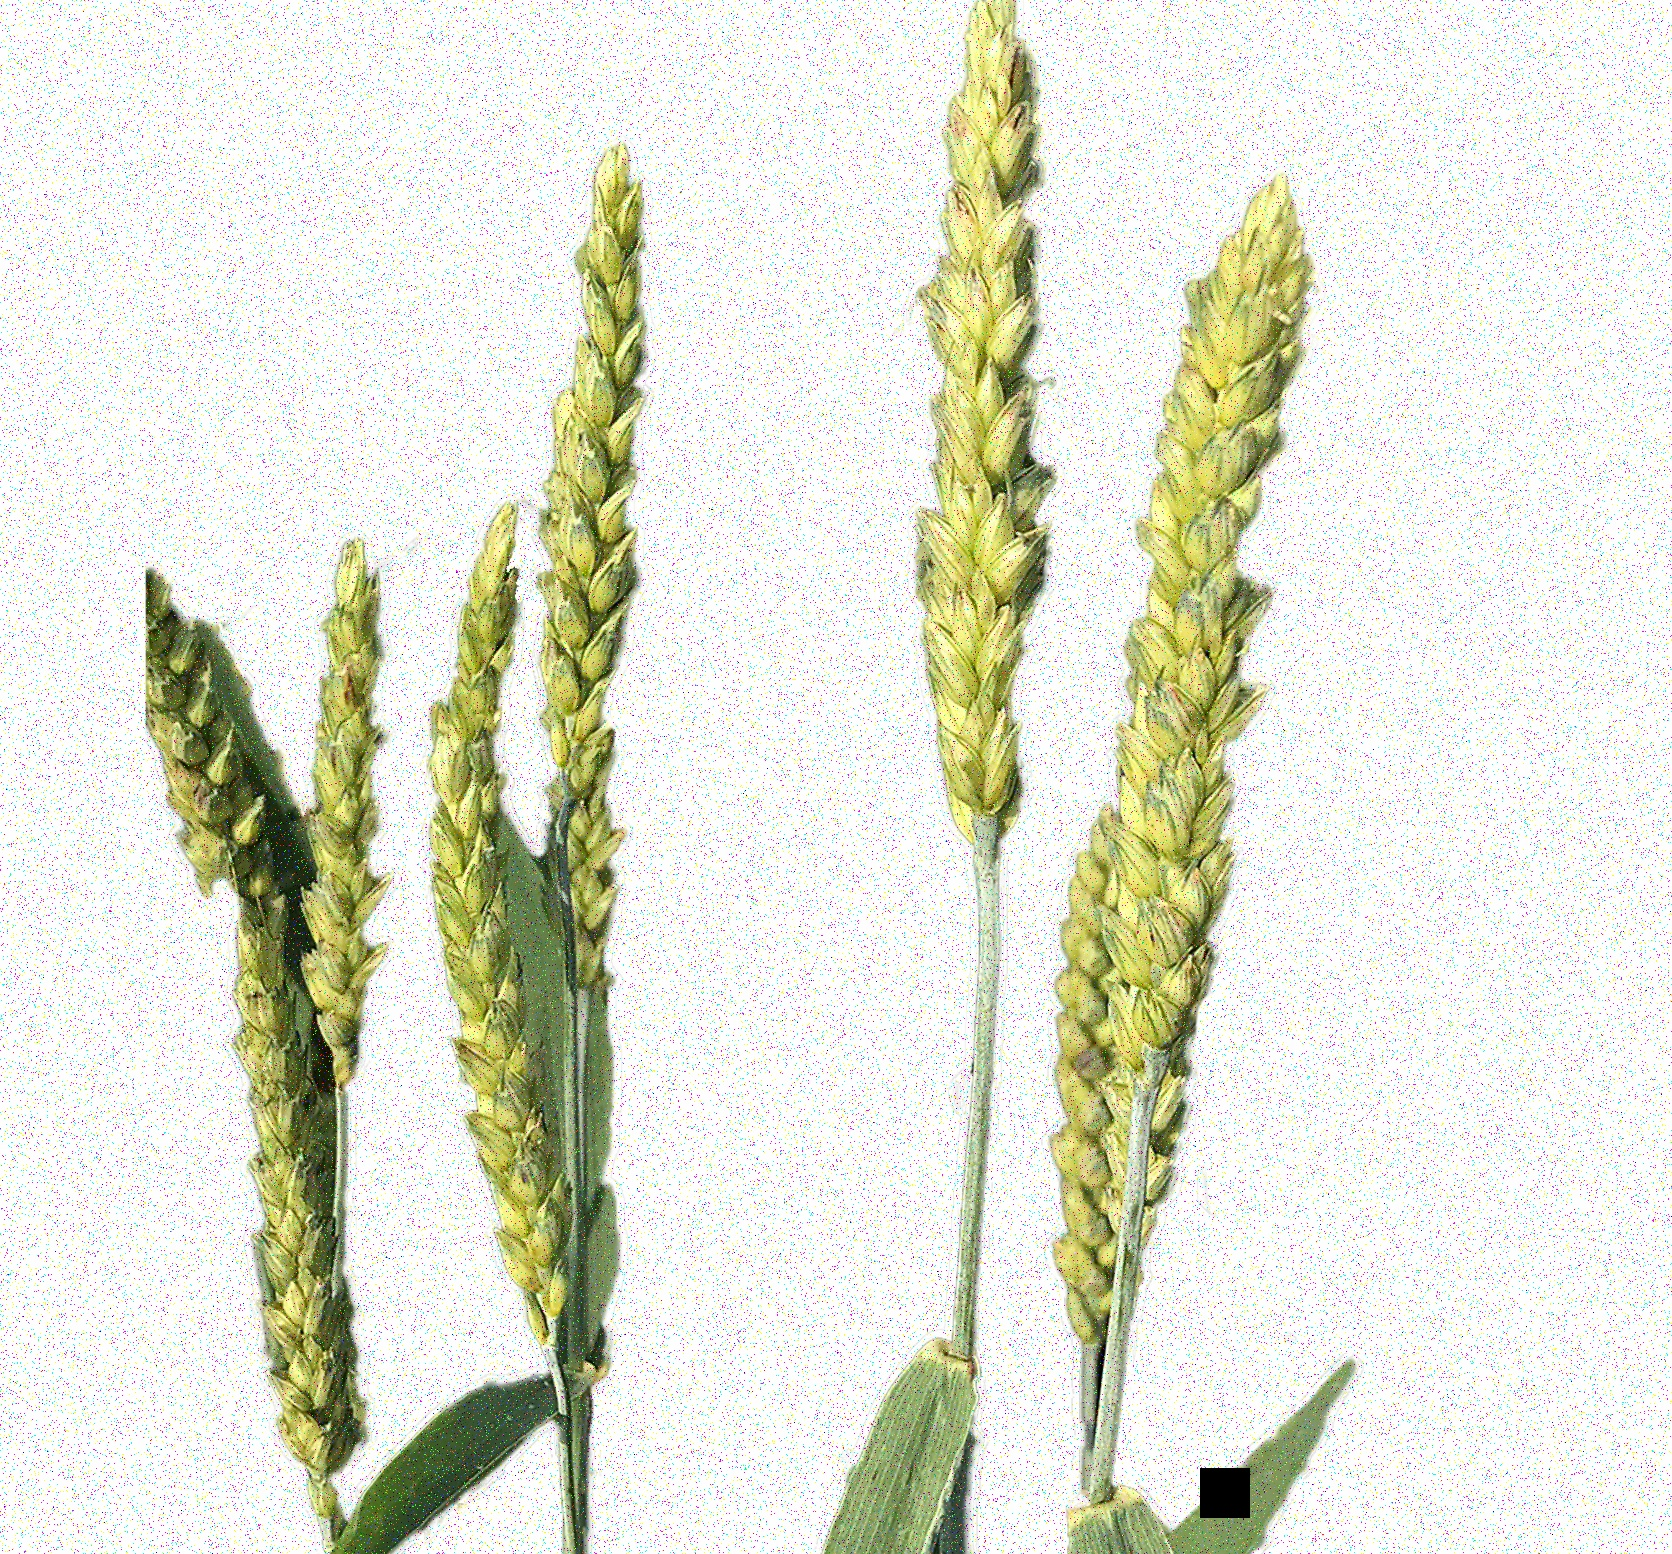wheat: (1040, 155, 1297, 1551), (422, 112, 672, 1468), (145, 497, 393, 1504), (843, 4, 1067, 1053)
